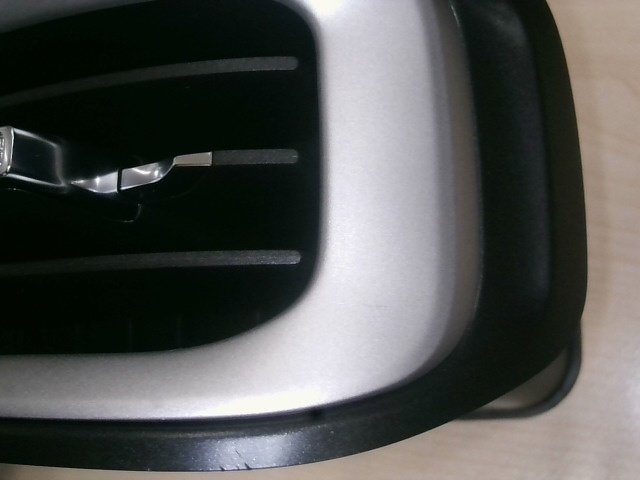NG: (349, 282, 404, 331), (204, 442, 269, 479)
